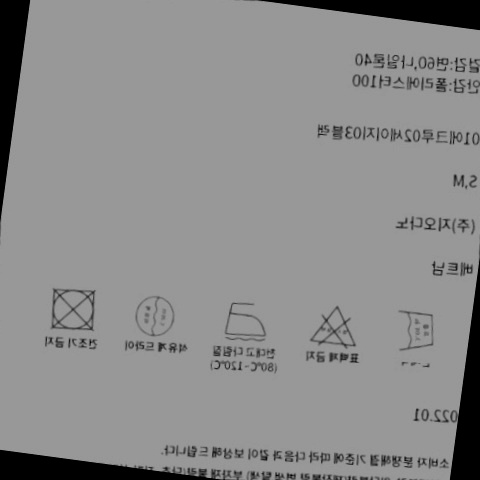30C: (386, 301, 442, 358)
DN_tumble_dry: (41, 281, 106, 337)
dry_clean_petrol_only: (122, 284, 181, 342)
iron: (216, 290, 276, 346)
non_chlorine_bleach: (300, 293, 365, 354)
